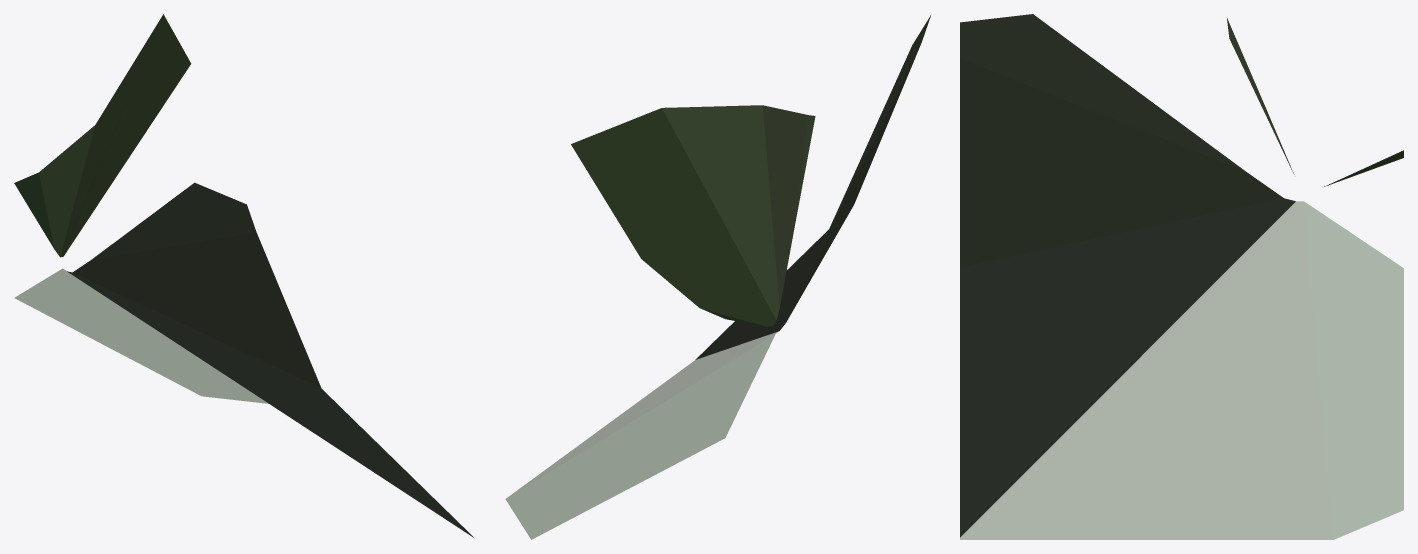
The picture shows the model from 3 angles, left to right: view 1: azimuth 30°, elevation 25°; view 2: azimuth 150°, elevation 25°; view 3: azimuth 270°, elevation 25°; orthographic projection. The views are drawn at different scales.
Size of the model in its own units: 0.6483 by 0.983 by 0.983.
Materials: 1 (1 with a texture image).
